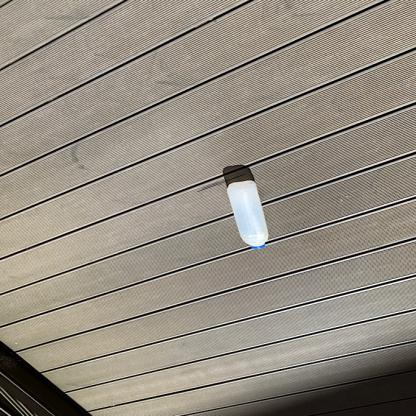trash: (223, 181, 270, 248)
